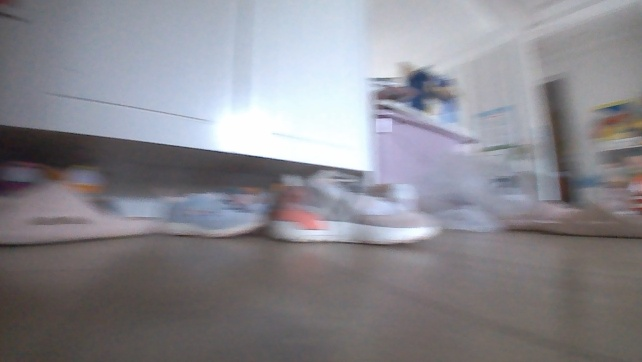shoe: (269, 170, 442, 246), (156, 189, 266, 242)
slipper: (0, 182, 159, 247)
